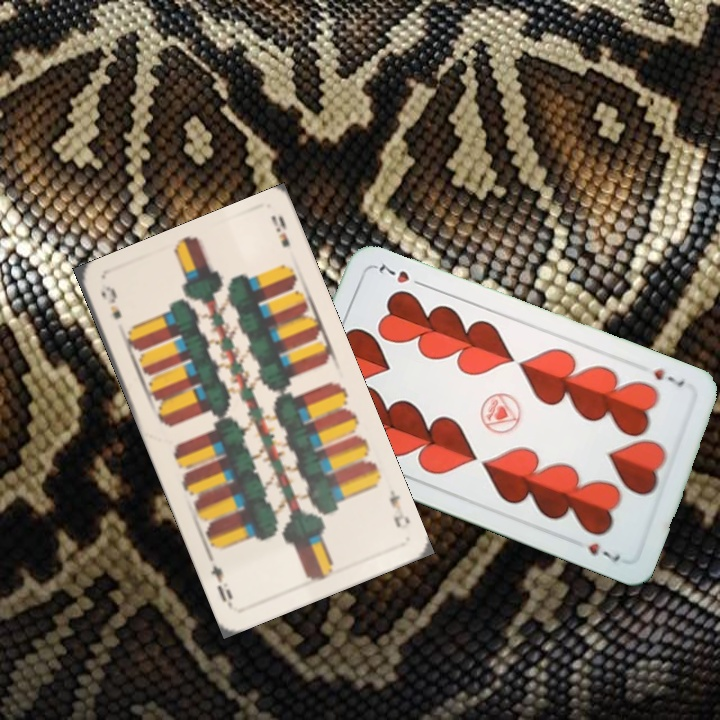E9: (385, 485, 413, 530), (97, 282, 124, 322)
H7: (649, 364, 688, 390)
